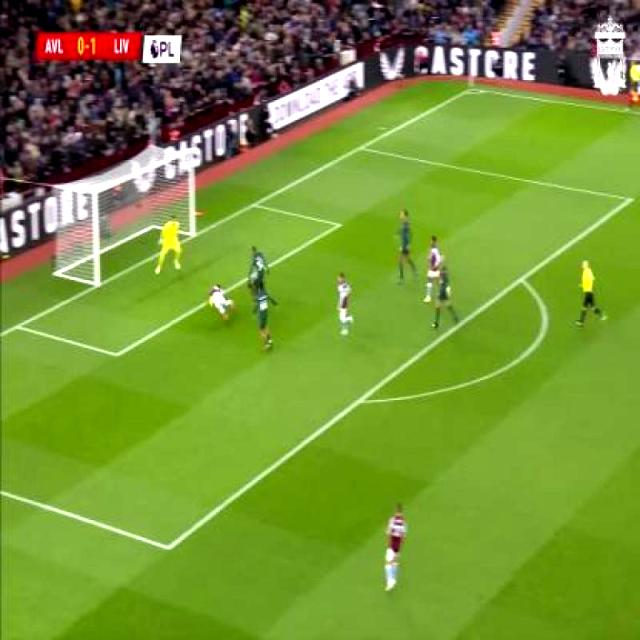bigarea_bottom_inner: (155, 534, 182, 562)
bigarea_top_inner: (620, 189, 638, 214)
bigarea_top_outter: (352, 138, 370, 160)
bottom_arc_area_intersection: (354, 385, 371, 410)
corner: (468, 82, 482, 102)
smallarea_bottom_inner: (112, 345, 126, 365)
smallarea_bottom_outter: (12, 315, 28, 337)
smallarea_top_inner: (330, 214, 348, 238)
smallarea_top_outter: (245, 192, 265, 218)
top_arc_area_intersection: (516, 269, 532, 296)
